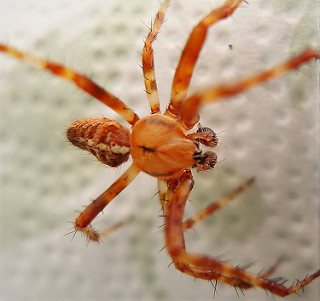spider: (1, 2, 320, 300)
